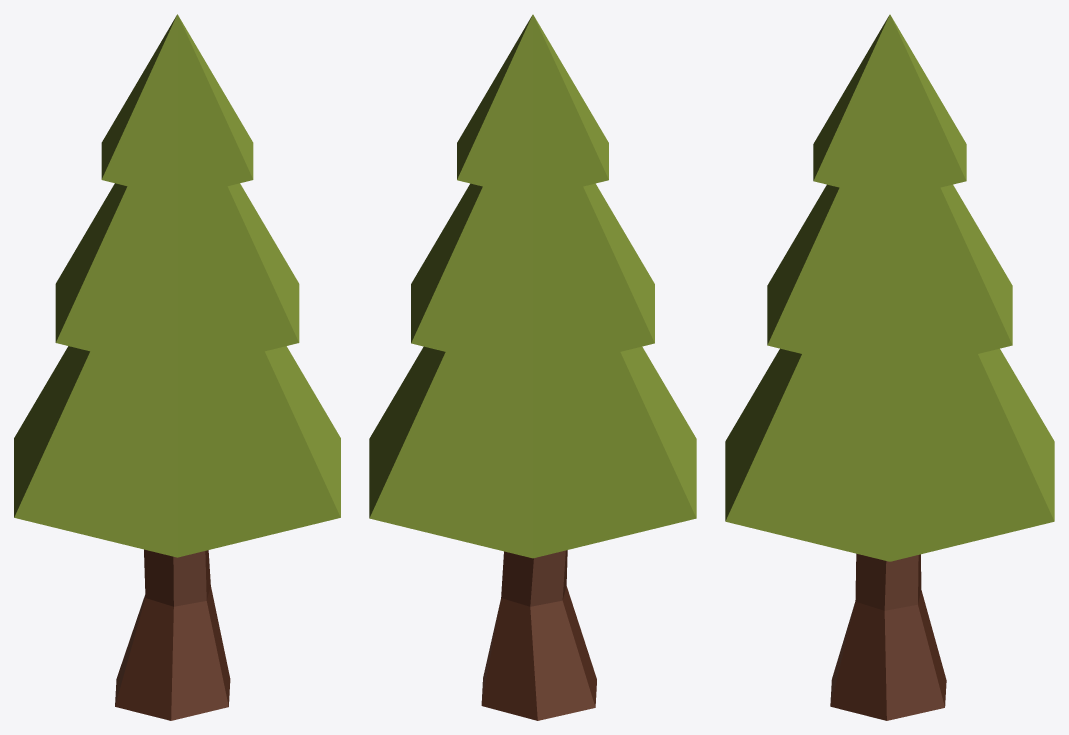
File: tree2.fbx
3 renders of one model, left to right at view 1: azimuth 30°, elevation 25°; view 2: azimuth 150°, elevation 25°; view 3: azimuth 270°, elevation 25°, orthographic.
Parts seen in each view (by area): view 1: Ağaç2_Mesh; view 2: Ağaç2_Mesh; view 3: Ağaç2_Mesh.
Boxes of the visible parts, <box> form: Ağaç2_Mesh: <box>14,14,340,720</box>; Ağaç2_Mesh: <box>369,14,696,720</box>; Ağaç2_Mesh: <box>725,14,1054,720</box>.
Size of the model in its own units: 1.72 by 3.42 by 1.49.
